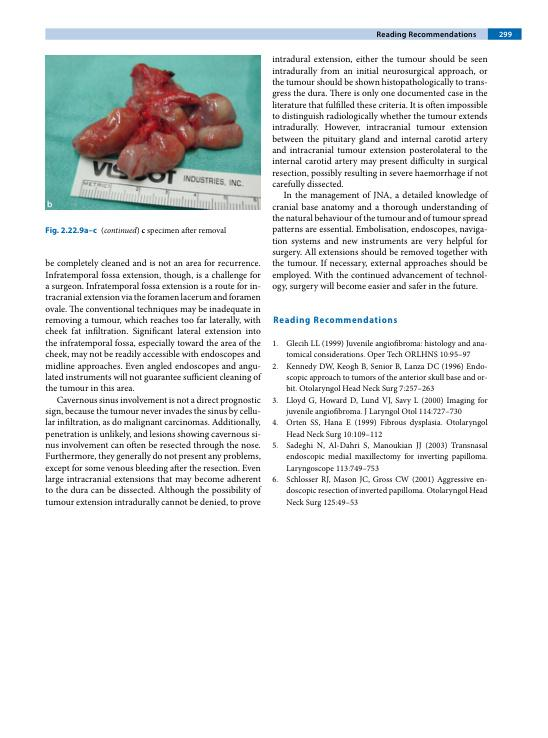caption: (44, 226, 228, 236), (46, 199, 54, 208)
header: (376, 30, 477, 39)
image: (44, 54, 261, 211)
list: (271, 338, 489, 508)
sub-section-heading: (272, 314, 398, 326)
text: (43, 257, 262, 509), (270, 54, 489, 295)
